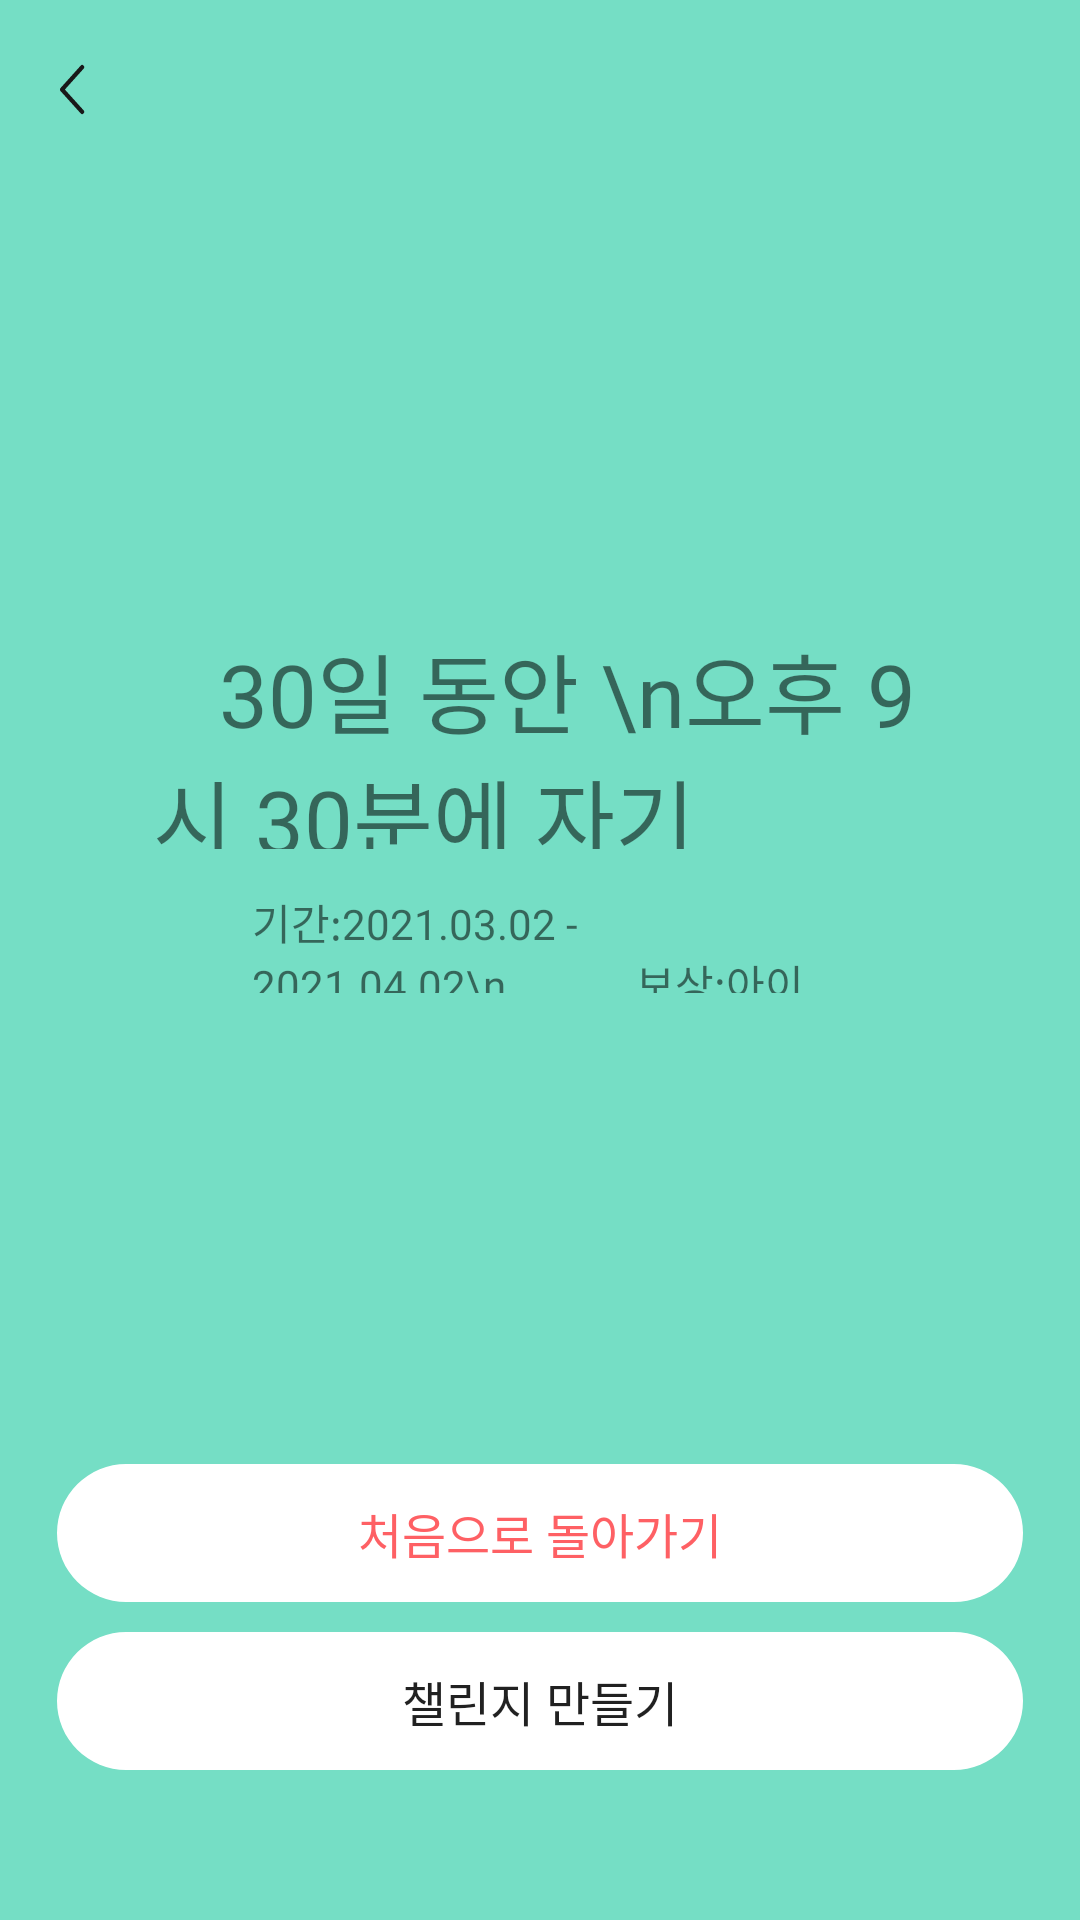

Icon click points for this 1080*1920 phone screenshot, format (x=x, y=y):
back: (x=72, y=89)
